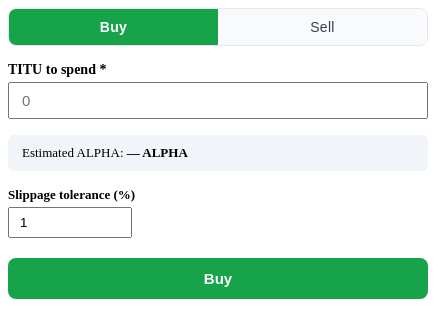
TradeWidget › shows estimated output after typing amount
In the number field labelled "TITU to spend *": {"x": 218, "y": 100} [8, 82, 428, 119], type "100"
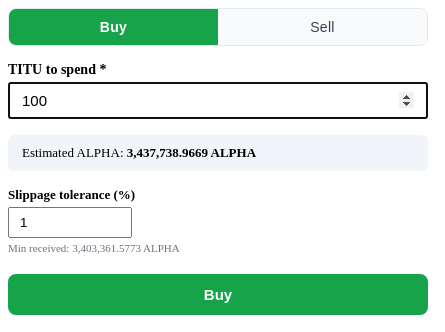
Expected: the element "Estimated ALPHA: 3,437,738.9669 ALPHA" is shown, [8, 135, 428, 171]
Result: the text "— ALPHA" no longer shows "—"
